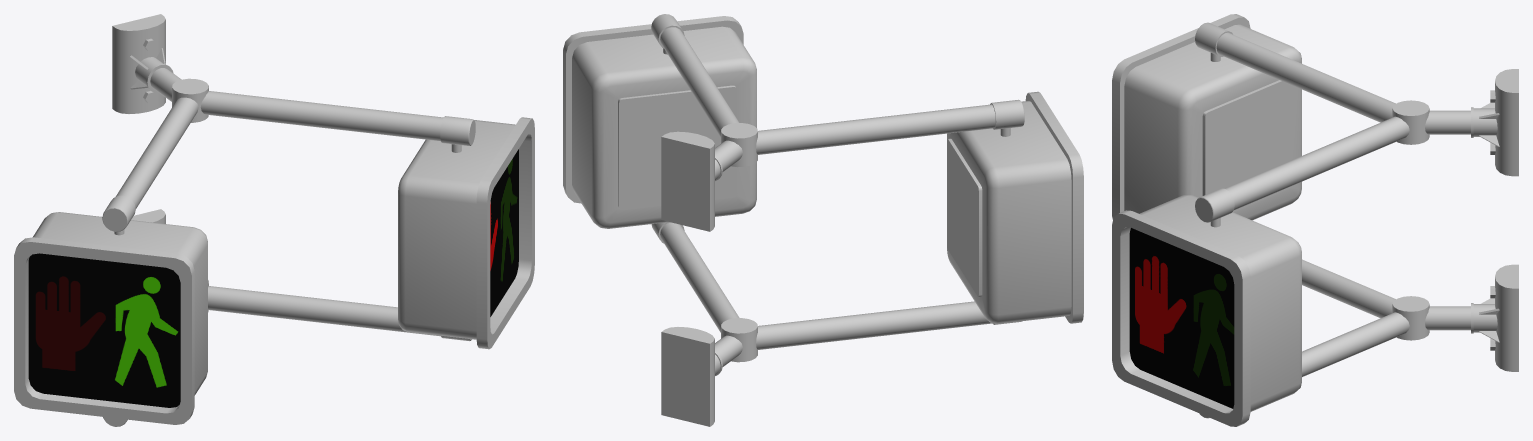
Rendered from pedestrian_traffic_light_02_base_medium_yellow.obj.
3 renders of one model, left to right at view 1: azimuth 30°, elevation 25°; view 2: azimuth 150°, elevation 25°; view 3: azimuth 270°, elevation 25°, orthographic.
Parts seen in each view (by area): view 1: pedestrian_light_traffic_01_yellow_small_regular_material, pedestrian_traffic_light_02_base_medium_yellow_regular_material, pedestrian_light_traffic_01_yellow_small.001_pedestrian_traffic_, pedestrian_light_traffic_01_yellow_small.001_regular_material, pedestrian_light_traffic_01_yellow_small_pedestrian_traffic_ligh; view 2: pedestrian_traffic_light_02_base_medium_yellow_regular_material, pedestrian_light_traffic_01_yellow_small_regular_material, pedestrian_light_traffic_01_yellow_small.001_regular_material; view 3: pedestrian_light_traffic_01_yellow_small.001_regular_material, pedestrian_traffic_light_02_base_medium_yellow_regular_material, pedestrian_light_traffic_01_yellow_small_regular_material, pedestrian_light_traffic_01_yellow_small_pedestrian_traffic_ligh.
Boxes of the visible parts, x1=… form: pedestrian_light_traffic_01_yellow_small_regular_material: x1=398, y1=117, x2=534, y2=349; pedestrian_traffic_light_02_base_medium_yellow_regular_material: x1=102, y1=14, x2=475, y2=426; pedestrian_light_traffic_01_yellow_small.001_pedestrian_traffic_: x1=28, y1=253, x2=180, y2=407; pedestrian_light_traffic_01_yellow_small.001_regular_material: x1=14, y1=212, x2=207, y2=424; pedestrian_light_traffic_01_yellow_small_pedestrian_traffic_ligh: x1=490, y1=149, x2=518, y2=316; pedestrian_traffic_light_02_base_medium_yellow_regular_material: x1=651, y1=14, x2=1024, y2=426; pedestrian_light_traffic_01_yellow_small_regular_material: x1=563, y1=16, x2=756, y2=228; pedestrian_light_traffic_01_yellow_small.001_regular_material: x1=947, y1=91, x2=1083, y2=323; pedestrian_light_traffic_01_yellow_small.001_regular_material: x1=1112, y1=14, x2=1301, y2=220; pedestrian_traffic_light_02_base_medium_yellow_regular_material: x1=1195, y1=22, x2=1518, y2=418; pedestrian_light_traffic_01_yellow_small_regular_material: x1=1112, y1=195, x2=1301, y2=426; pedestrian_light_traffic_01_yellow_small_pedestrian_traffic_ligh: x1=1129, y1=228, x2=1234, y2=408.
Bounding box in the file's own units: 0.7013 × 0.358 × 0.473.
